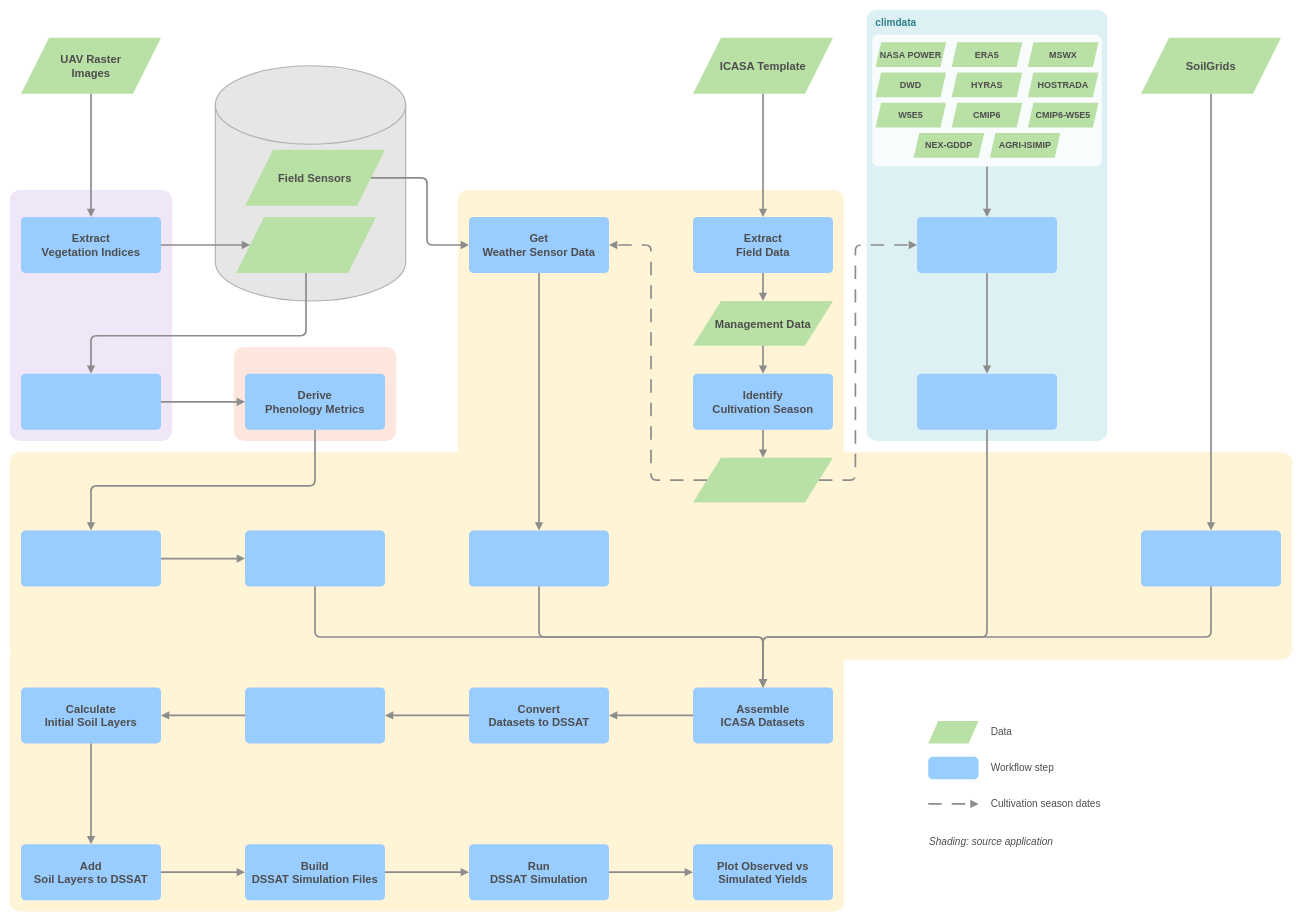
Some shapes in this 1301 by 921 pixel diagram are drawn without their labels. The shapes that lost their labels are listed below. From the top down, each one's box as (x1, y1, x2, y2) in pixels, then its label:
(214, 65, 406, 301): OGC SensorThings API
(236, 217, 376, 273): Vegetation Indices
(917, 217, 1057, 273): Get Complementary Weather Data
(10, 190, 172, 441): raster2sensor
(458, 190, 844, 474): csmTools
(21, 374, 161, 430): Fetch Temporal NDVI
(234, 347, 396, 441): phenocover
(917, 374, 1057, 430): Convert Weather Data to ICASA
(693, 458, 833, 502): Cultivation Season
(21, 530, 161, 586): Look Up Growth Stage Dates
(245, 530, 385, 586): Convert Phenology Metrics to ICASA
(469, 530, 609, 586): Convert Sensor Data to ICASA
(1141, 530, 1281, 586): Get Soil Profile
(245, 687, 385, 743): Normalise Soil Profile
